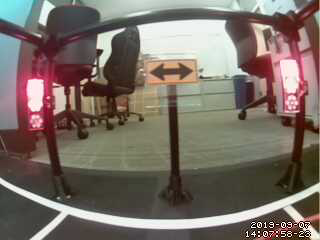Left_Right_sign: (143, 58, 198, 83)
Traffic_light_red: (280, 58, 303, 113), (27, 77, 44, 131)
